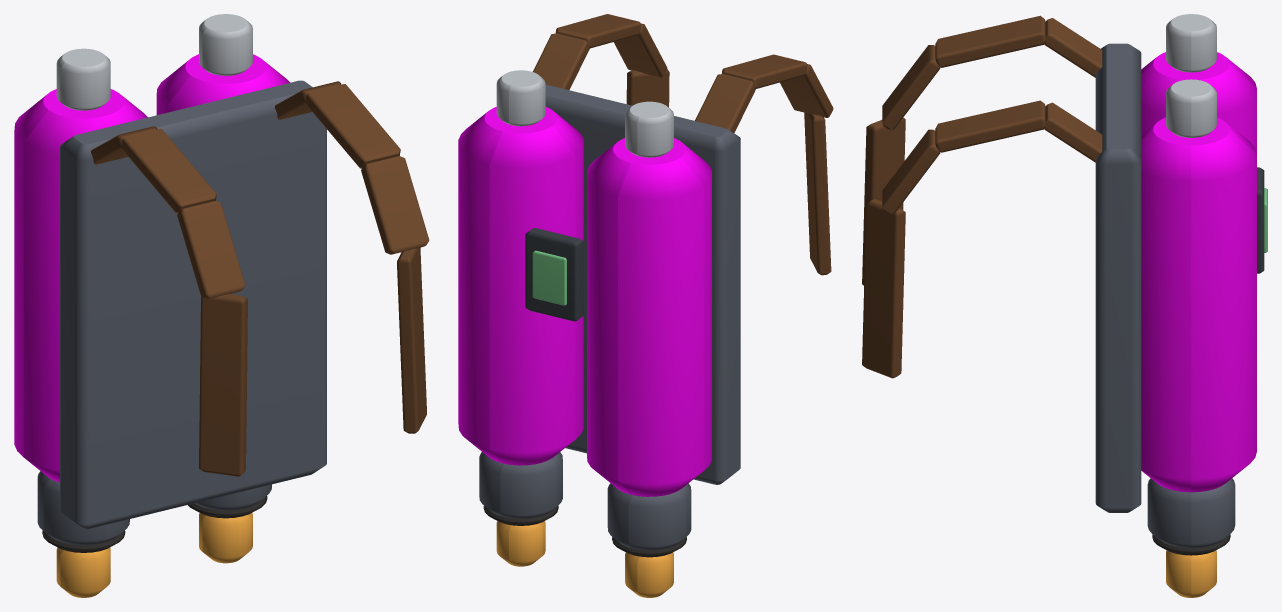
The model's file is porte_propulseur.glb.
3 renders of one model, left to right at view 1: azimuth 30°, elevation 25°; view 2: azimuth 150°, elevation 25°; view 3: azimuth 270°, elevation 25°, orthographic. The views are drawn at different scales.
Parts seen in each view (by area): view 1: poitrine__propulseur_exo_metal.002, poitrine__propulseur_sac_cuir.002, poitrine__propulseur_teinte.002, poitrine__propulseur_rivet.002, poitrine__propulseur_flamme_jet.002, poitrine__propulseur_semelle.002; view 2: poitrine__propulseur_teinte.002, poitrine__propulseur_exo_metal.002, poitrine__propulseur_sac_cuir.002, poitrine__propulseur_rivet.002, poitrine__propulseur_flamme_jet.002, poitrine__propulseur_teinte_sombre.002, poitrine__propulseur_exo_vert.002, poitrine__propulseur_semelle.002; view 3: poitrine__propulseur_teinte.002, poitrine__propulseur_exo_metal.002, poitrine__propulseur_sac_cuir.002, poitrine__propulseur_rivet.002, poitrine__propulseur_flamme_jet.002, poitrine__propulseur_teinte_sombre.002, poitrine__propulseur_semelle.002.
Part boxes in pixels (bbox=[...]): poitrine__propulseur_exo_metal.002: bbox=[37, 80, 326, 545]; poitrine__propulseur_sac_cuir.002: bbox=[91, 81, 429, 476]; poitrine__propulseur_teinte.002: bbox=[14, 54, 289, 482]; poitrine__propulseur_rivet.002: bbox=[56, 14, 252, 110]; poitrine__propulseur_flamme_jet.002: bbox=[56, 512, 252, 597]; poitrine__propulseur_semelle.002: bbox=[42, 496, 267, 552]; poitrine__propulseur_teinte.002: bbox=[458, 107, 711, 496]; poitrine__propulseur_exo_metal.002: bbox=[479, 84, 740, 550]; poitrine__propulseur_sac_cuir.002: bbox=[533, 14, 833, 275]; poitrine__propulseur_rivet.002: bbox=[496, 70, 673, 157]; poitrine__propulseur_flamme_jet.002: bbox=[496, 521, 673, 597]; poitrine__propulseur_teinte_sombre.002: bbox=[525, 228, 583, 321]; poitrine__propulseur_exo_vert.002: bbox=[532, 250, 566, 305]; poitrine__propulseur_semelle.002: bbox=[483, 506, 686, 557]; poitrine__propulseur_teinte.002: bbox=[1141, 52, 1256, 492]; poitrine__propulseur_exo_metal.002: bbox=[1095, 43, 1235, 548]; poitrine__propulseur_sac_cuir.002: bbox=[862, 15, 1102, 378]; poitrine__propulseur_rivet.002: bbox=[1166, 14, 1216, 137]; poitrine__propulseur_flamme_jet.002: bbox=[1166, 550, 1216, 597]; poitrine__propulseur_teinte_sombre.002: bbox=[1257, 167, 1264, 273]; poitrine__propulseur_semelle.002: bbox=[1152, 534, 1230, 555].
Size of the model in its own units: 0.314 by 0.61 by 0.4455.
